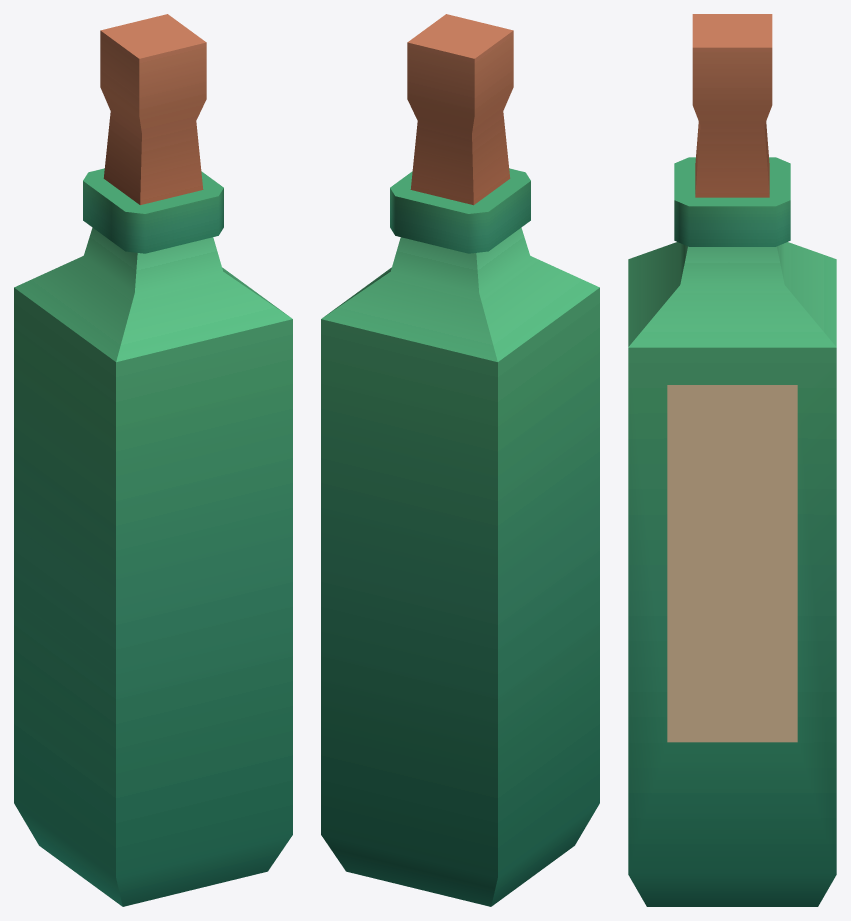
File: bottle-oil.d5b62ce9bc.glb
3 renders of one model, left to right at view 1: azimuth 30°, elevation 25°; view 2: azimuth 150°, elevation 25°; view 3: azimuth 270°, elevation 25°, orthographic. The views are drawn at different scales.
Parts seen in each view (by area): view 1: bottle-oil; view 2: bottle-oil; view 3: bottle-oil.
Part boxes in pixels (<box>): bottle-oil: <box>14,14,292,906</box>; bottle-oil: <box>321,14,599,906</box>; bottle-oil: <box>628,14,836,906</box>.
Bounding box in the file's own units: 0.14 × 0.6218 × 0.14.
1 material, 1 textured.
